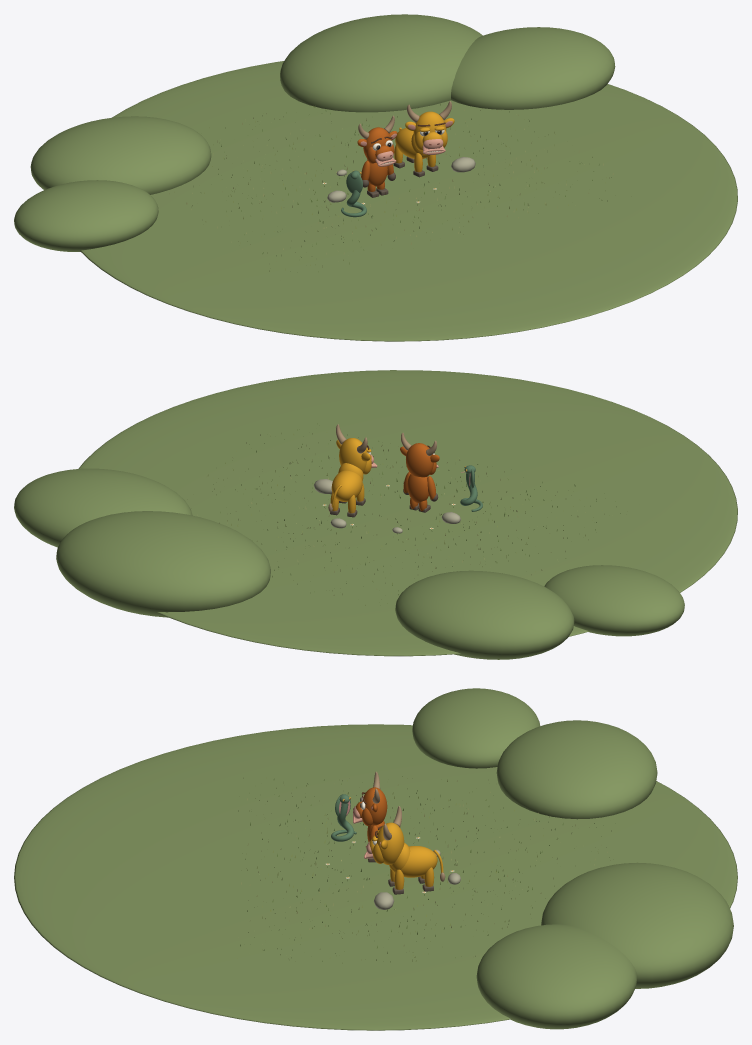
Rendered from niulai.glb.
The picture shows the model from 3 angles, top to bottom: view 1: azimuth 30°, elevation 25°; view 2: azimuth 150°, elevation 25°; view 3: azimuth 270°, elevation 25°; orthographic projection. The views are drawn at different scales.
Visible parts, largest first — view 1: Rolling meadow, Distant velvet hill.001, Distant velvet hill.002, Distant velvet hill, Distant velvet hill.003, Meadow blades; view 2: Rolling meadow, Distant velvet hill.001, Distant velvet hill, Distant velvet hill.002, Distant velvet hill.003, Meadow blades, NIU LAI head sculpt, MAMA barrel, MAMA head sculpt, NIU LAI torso; view 3: Rolling meadow, Distant velvet hill.001, Distant velvet hill.002, Distant velvet hill, Distant velvet hill.003, Meadow blades, MAMA barrel, MAMA head sculpt.
Part boxes in pixels (box(x1,y1,x2,y2)): Rolling meadow: box(80, 61, 737, 341); Distant velvet hill.001: box(280, 14, 482, 112); Distant velvet hill.002: box(451, 27, 615, 109); Distant velvet hill: box(30, 116, 211, 194); Distant velvet hill.003: box(14, 180, 158, 251); Meadow blades: box(169, 101, 613, 271); Rolling meadow: box(78, 370, 737, 656); Distant velvet hill.001: box(56, 511, 270, 617); Distant velvet hill: box(395, 570, 574, 659); Distant velvet hill.002: box(14, 468, 192, 547); Distant velvet hill.003: box(544, 565, 684, 636); Meadow blades: box(187, 423, 620, 605); NIU LAI head sculpt: box(406, 443, 433, 477); MAMA barrel: box(331, 470, 362, 501); MAMA head sculpt: box(339, 438, 367, 472); NIU LAI torso: box(407, 474, 428, 503); Rolling meadow: box(14, 724, 737, 1030); Distant velvet hill.001: box(541, 862, 733, 988); Distant velvet hill.002: box(476, 924, 637, 1029); Distant velvet hill: box(496, 720, 657, 819); Distant velvet hill.003: box(412, 688, 540, 768); Meadow blades: box(237, 776, 611, 963); MAMA barrel: box(389, 846, 437, 877); MAMA head sculpt: box(377, 822, 404, 864).
Bounding box in the file's own units: 38 × 6.21 × 36.
